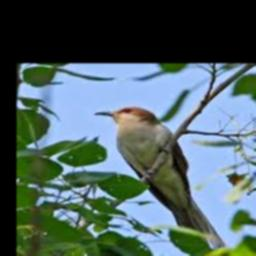Cuckoo: (94, 106, 225, 256)
